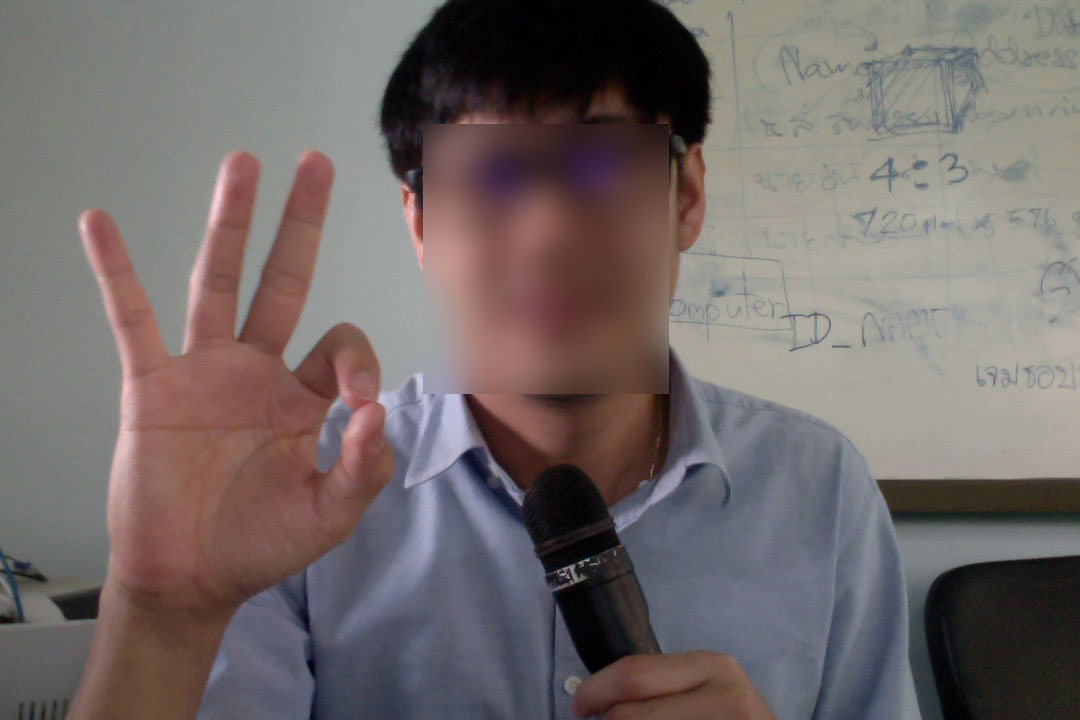for: (68, 139, 402, 617)
